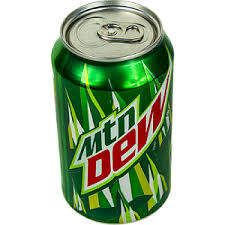can: (53, 1, 178, 225)
